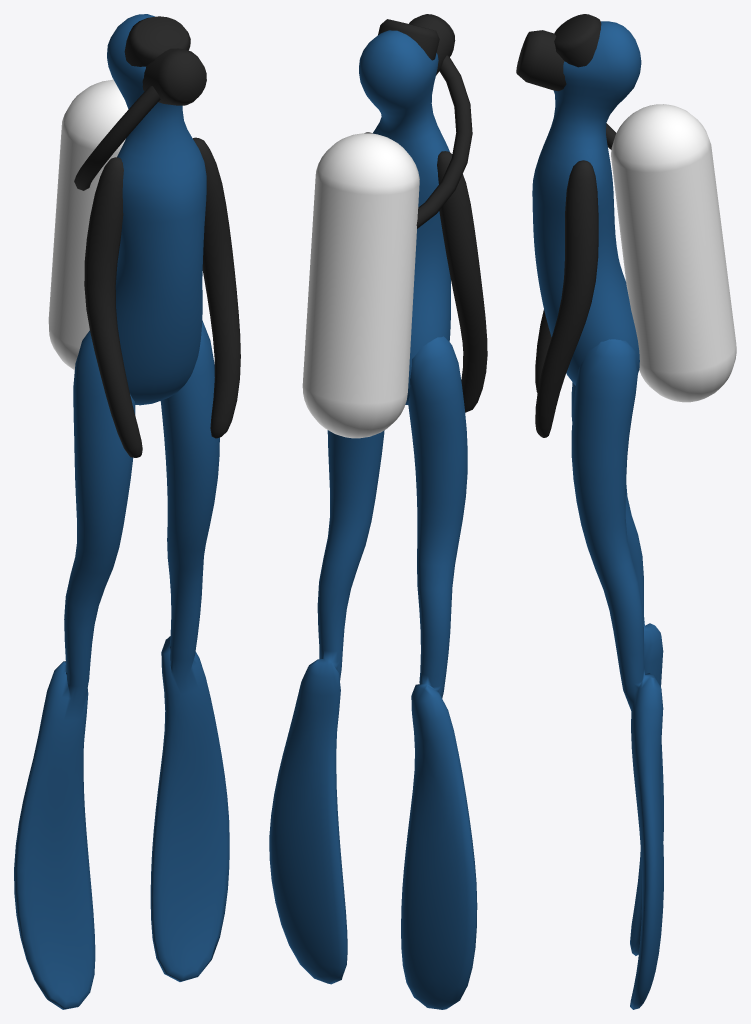
File: diver_player.fbx
3 views of the same model, side by side, from view 1: azimuth 30°, elevation 25°; view 2: azimuth 150°, elevation 25°; view 3: azimuth 270°, elevation 25° (orthographic). The views are drawn at different scales.
Visible parts, largest first — view 1: r_leg, l_leg, body, arms, mask, googles; view 2: mask, r_leg, l_leg, body, arms, googles; view 3: mask, l_leg, body, arms, r_leg, googles.
Part boxes in pixels (x1,y1,x2,y2): r_leg: (14, 330, 135, 1009); l_leg: (150, 320, 229, 981); body: (107, 14, 206, 405); arms: (84, 137, 240, 457); mask: (48, 48, 206, 370); googles: (124, 16, 190, 66); mask: (302, 14, 472, 438); r_leg: (401, 336, 477, 1009); l_leg: (269, 430, 384, 984); body: (359, 30, 450, 404); arms: (364, 132, 487, 412); googles: (378, 19, 439, 60); mask: (516, 30, 736, 402); l_leg: (571, 339, 663, 1009); body: (532, 21, 641, 385); arms: (535, 160, 598, 437); r_leg: (571, 382, 663, 955); googles: (554, 14, 601, 67).
Bounding box in the file's own units: 57.69 × 256 × 53.19.
